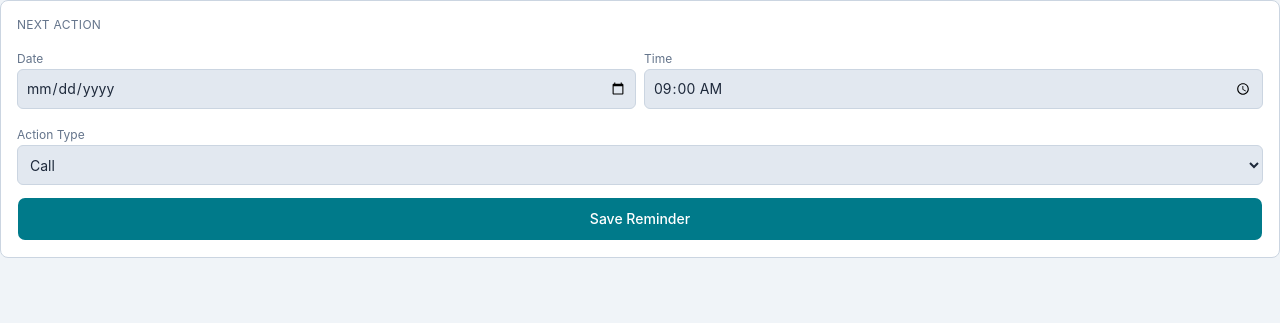
LeadNextAction › recovers with an inline error when setNextAction rejects in transit (EH-01)
Type "2026-06-01" into the date field labelled "Date". click: {"x": 326, "y": 89}
box: [17,69,636,109]
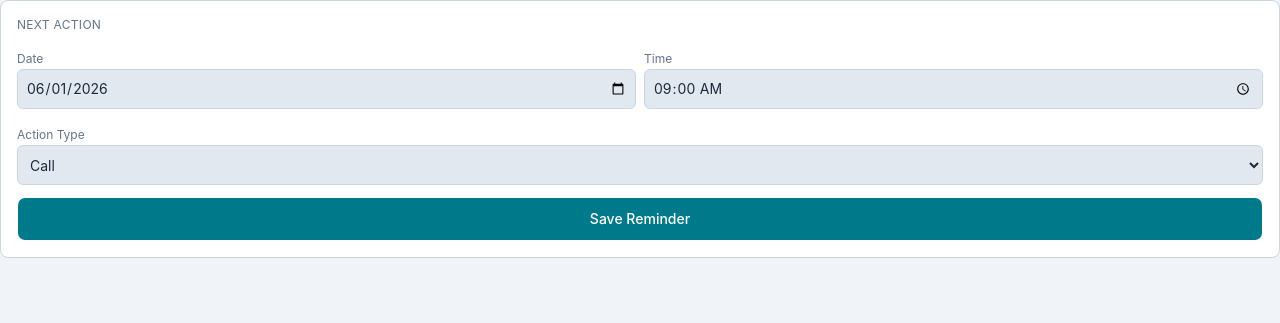
Click the button "Save Reminder". click: {"x": 640, "y": 219}
box: [17,197,1263,241]
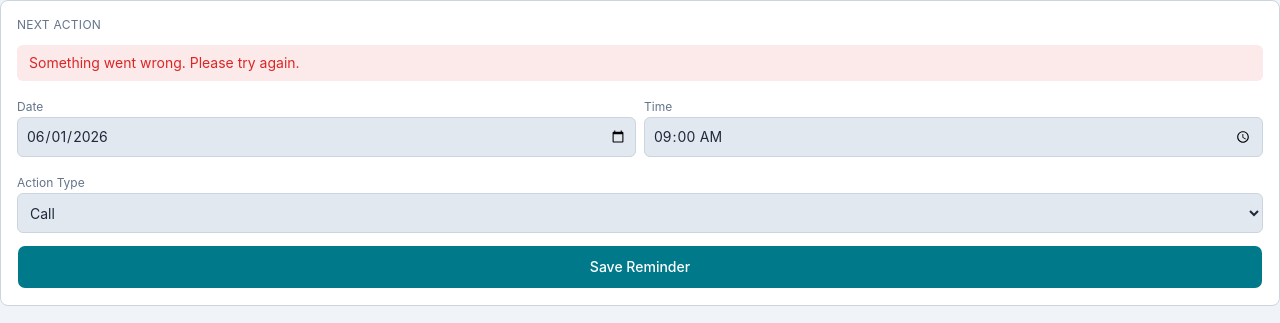
Check: the button "Save Reminder" is enabled, box [17,245,1263,289]
Check: the message shows "Something went wrong", box [29,54,300,71]
